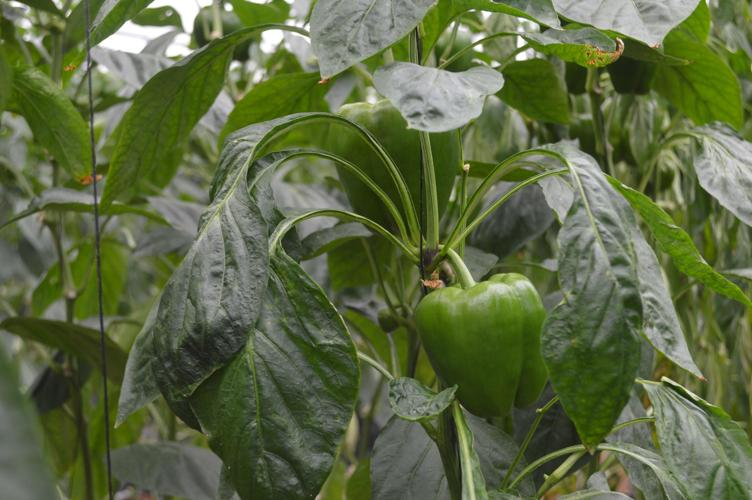BellPepper: (417, 271, 557, 430), (328, 95, 467, 249)
